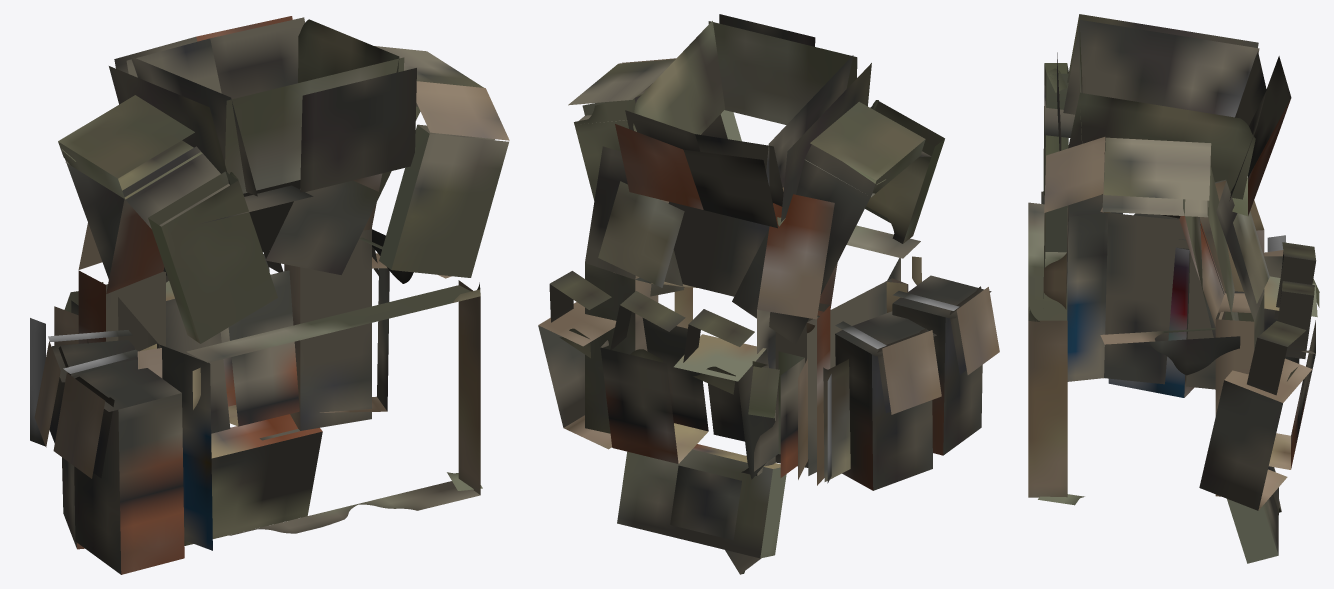
The model's file is bydlovka.obj.
The picture shows the model from 3 angles, left to right: view 1: azimuth 30°, elevation 25°; view 2: azimuth 150°, elevation 25°; view 3: azimuth 270°, elevation 25°; orthographic projection. The views are drawn at different scales.
Visible parts, largest first — view 1: cube; view 2: cube; view 3: cube.
Part boxes in pixels (x1,y1,x2,y2): cube: (30,16,509,574); cube: (538,14,999,574); cube: (1028,14,1319,563).
Bounding box in the file's own units: 0.8388 × 1.04 × 0.5588.
